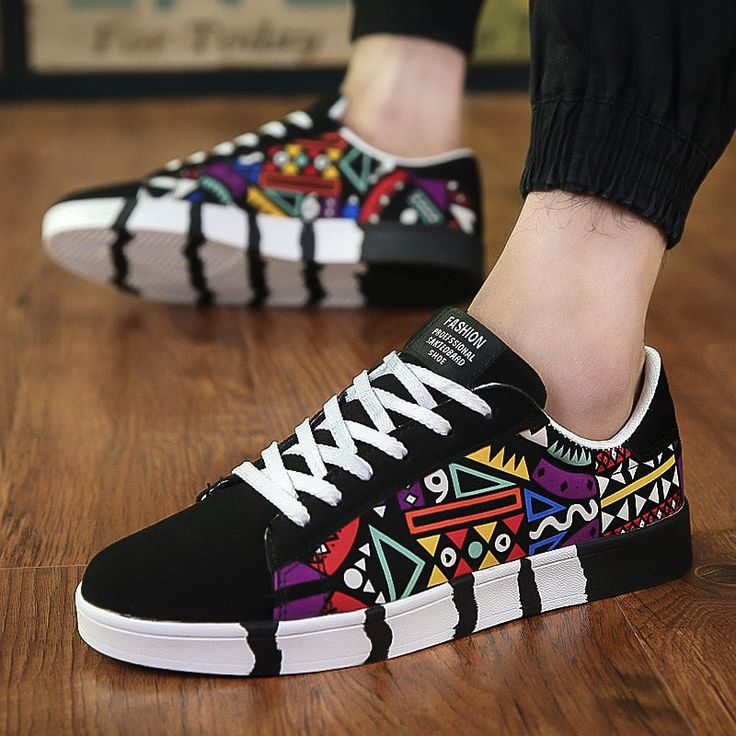gamuza: (81, 361, 690, 623)
